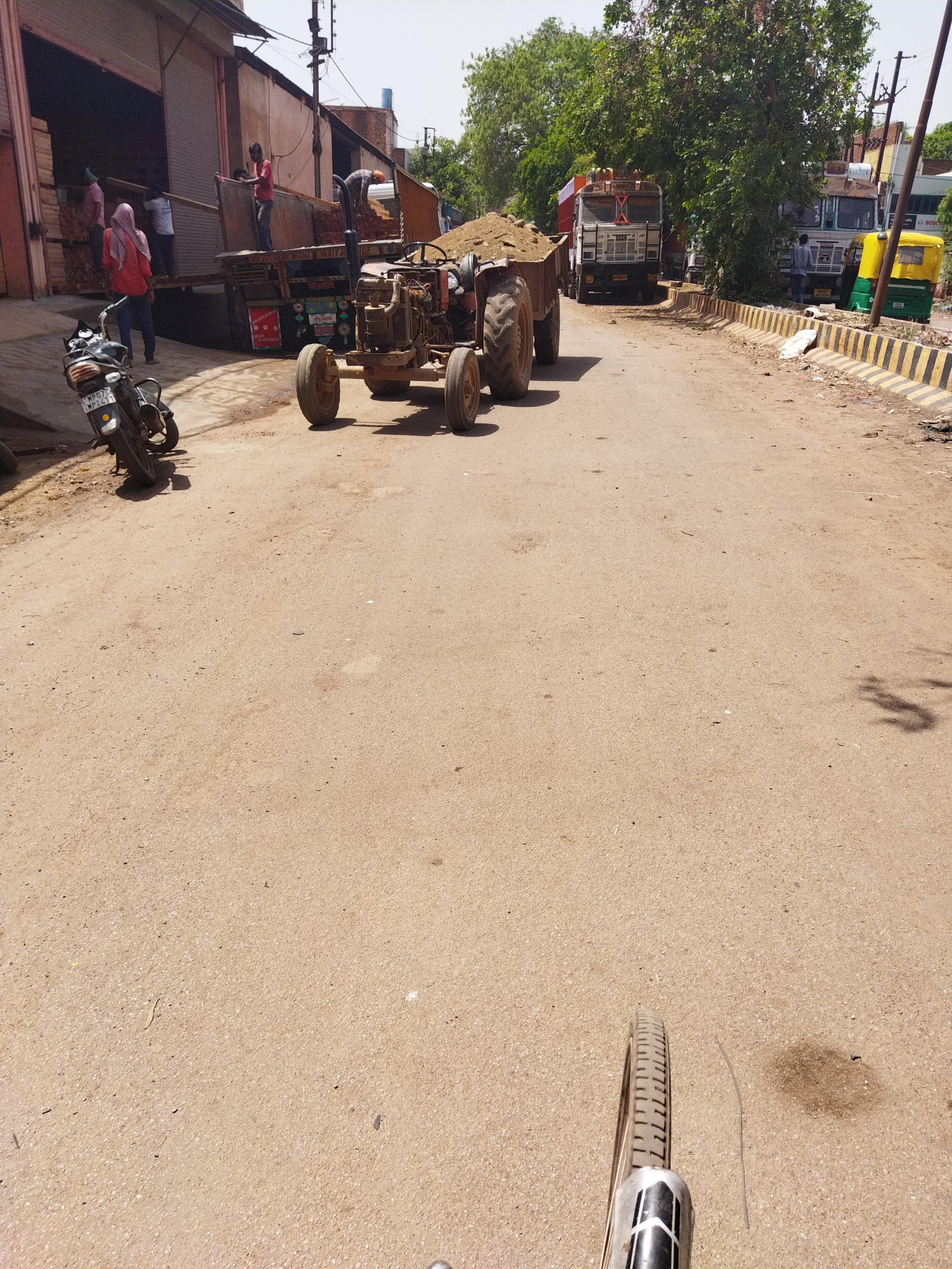non-ambulance: (227, 150, 576, 513)
